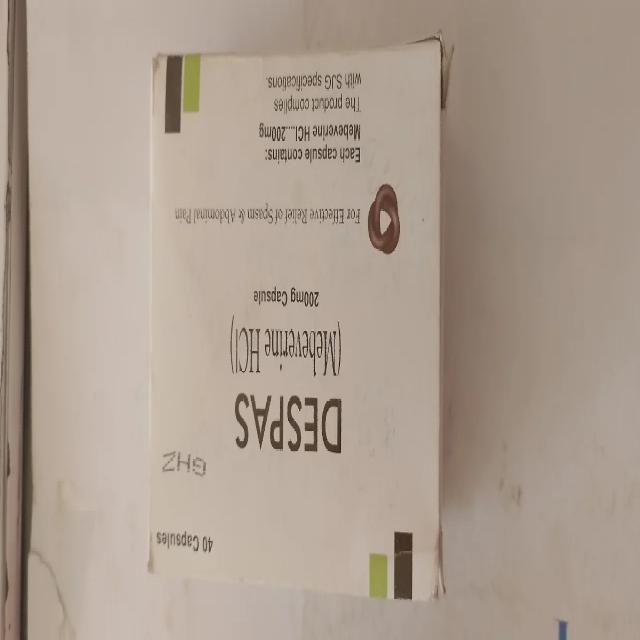drug-name: (228, 384, 347, 457)
